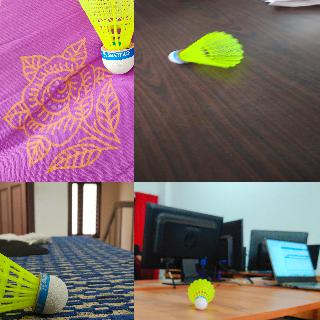shuttlecock: (0, 227, 68, 319), (66, 0, 133, 74), (169, 31, 244, 68), (187, 278, 215, 310)
